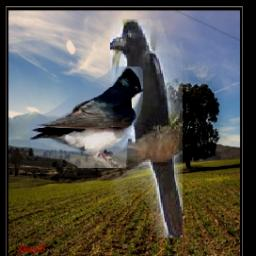Crow: (111, 20, 184, 239)
Swallow: (28, 68, 143, 169)
